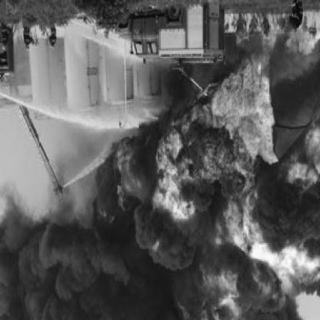Fire: (118, 36, 320, 320)
